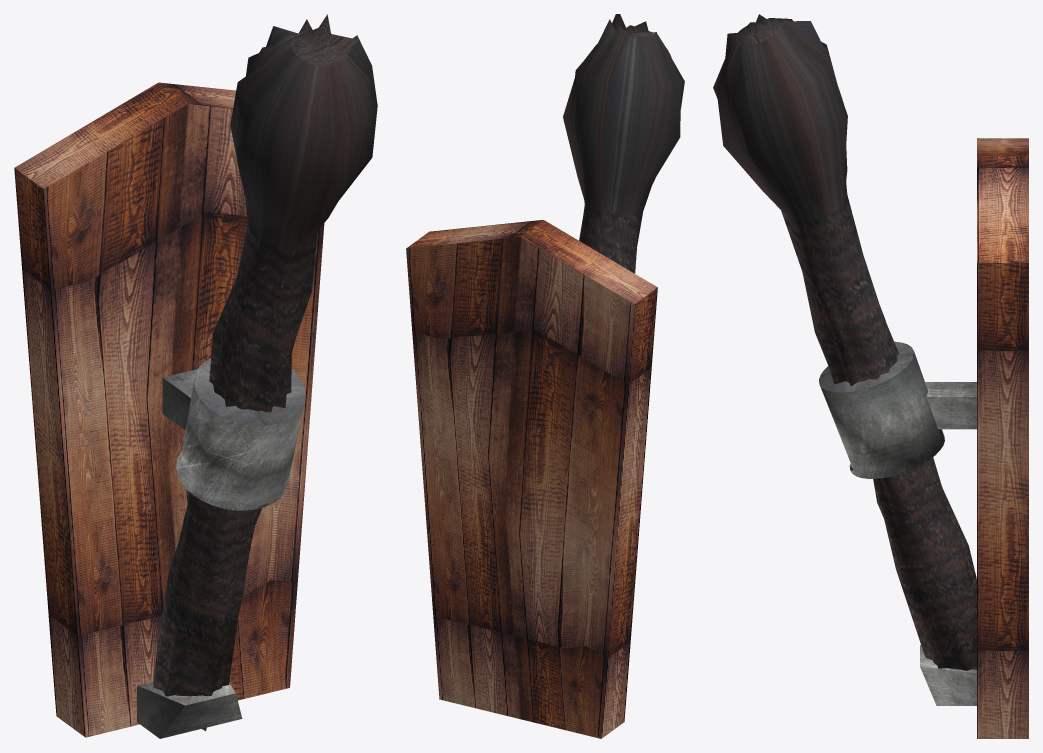
File: Fackel.fbx
The picture shows the model from 3 angles, left to right: view 1: azimuth 30°, elevation 25°; view 2: azimuth 150°, elevation 25°; view 3: azimuth 270°, elevation 25°; orthographic projection. The views are drawn at different scales.
Parts seen in each view (by area): view 1: Halterung Wand, Fackel, Metall, Metall 2, Metall 3; view 2: Halterung Wand, Fackel; view 3: Fackel, Halterung Wand, Metall, Metall 3, Metall 2.
Boxes of the visible parts, box(x1,y1,x2,y2) form: Halterung Wand: box(14, 82, 324, 737); Fackel: box(153, 14, 377, 731); Metall: box(176, 357, 305, 510); Metall 2: box(137, 682, 242, 738); Metall 3: box(162, 369, 197, 429); Halterung Wand: box(406, 220, 657, 738); Fackel: box(563, 14, 684, 273); Fackel: box(713, 14, 976, 670); Halterung Wand: box(977, 138, 1028, 738); Metall: box(819, 341, 944, 478); Metall 3: box(925, 382, 976, 429); Metall 2: box(920, 645, 976, 705).
Size of the model in its own units: 926 by 2377 by 993.
3 materials, 3 textured.
